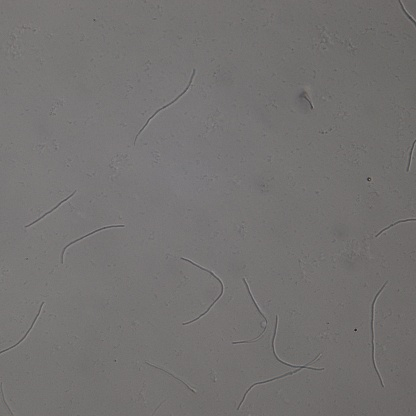Sensitive: (237, 316, 324, 410), (135, 68, 196, 145), (181, 256, 224, 328), (60, 222, 124, 263), (232, 276, 268, 346), (1, 303, 43, 359), (369, 281, 389, 390), (25, 189, 77, 227), (147, 363, 195, 391), (376, 218, 416, 237)
